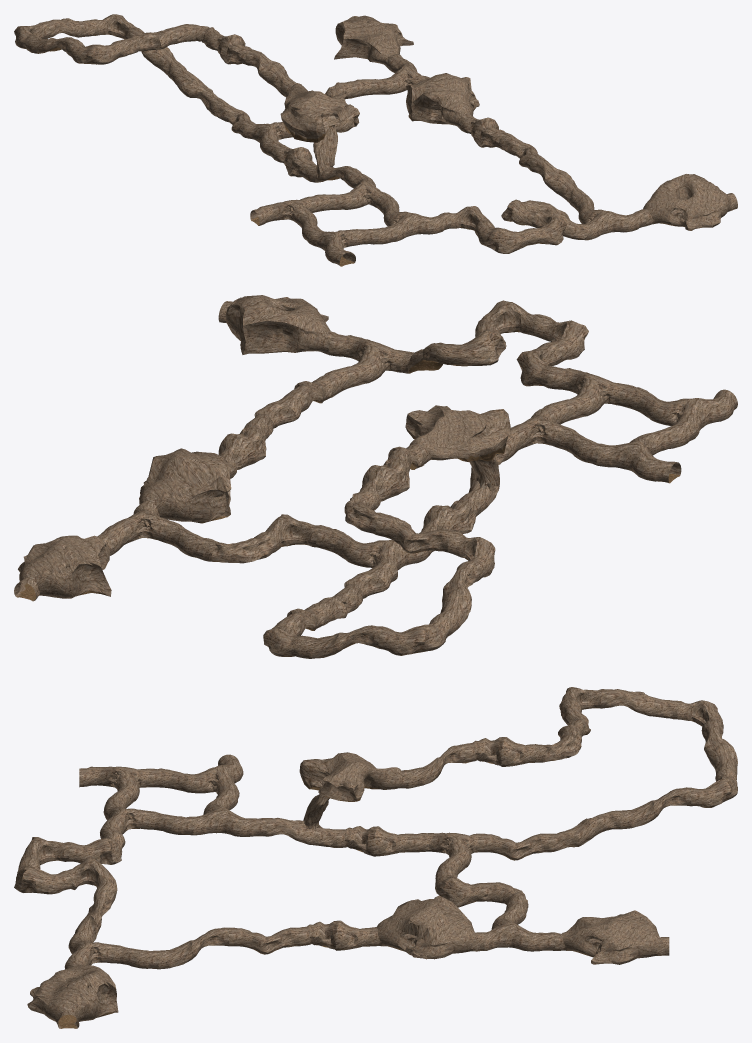
File: minetunnels.dae
3 views of the same model, one above another, from view 1: azimuth 30°, elevation 25°; view 2: azimuth 150°, elevation 25°; view 3: azimuth 270°, elevation 25° (orthographic). The views are drawn at different scales.
Visible parts, largest first — view 1: S_CaveRock, S_CaveDirtTile; view 2: S_CaveRock, S_CaveDirtTile, S_CaveDirtEdge; view 3: S_CaveRock.
Boxes of the visible parts, <box> form: S_CaveRock: <box>14,14,737,265</box>; S_CaveDirtTile: <box>21,32,548,266</box>; S_CaveRock: <box>14,295,737,658</box>; S_CaveDirtTile: <box>24,330,679,658</box>; S_CaveDirtEdge: <box>15,322,506,601</box>; S_CaveRock: <box>14,687,737,1027</box>.
Size of the model in its own units: 709 by 892 by 168.
